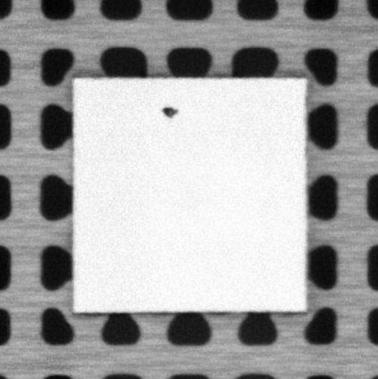DIE_INK: (162, 104, 179, 119)
